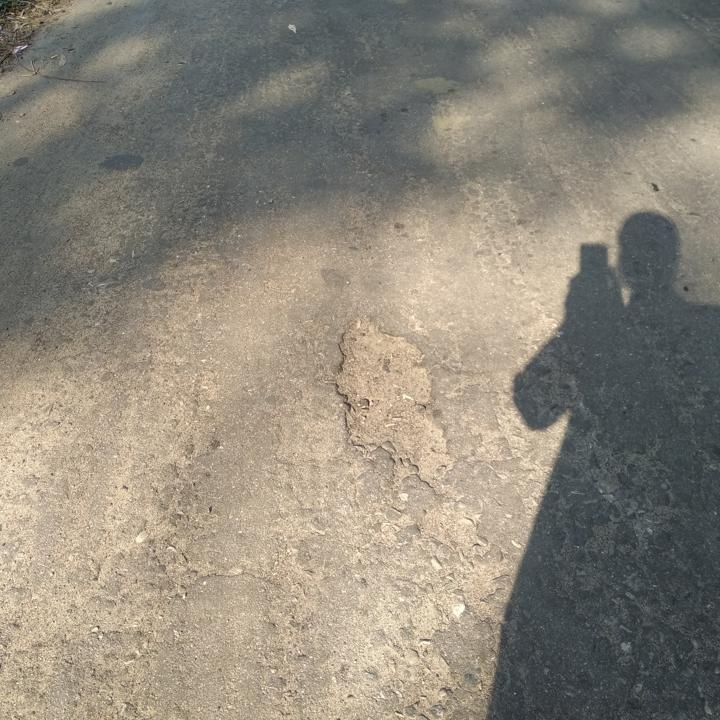pothole: (328, 312, 457, 485)
